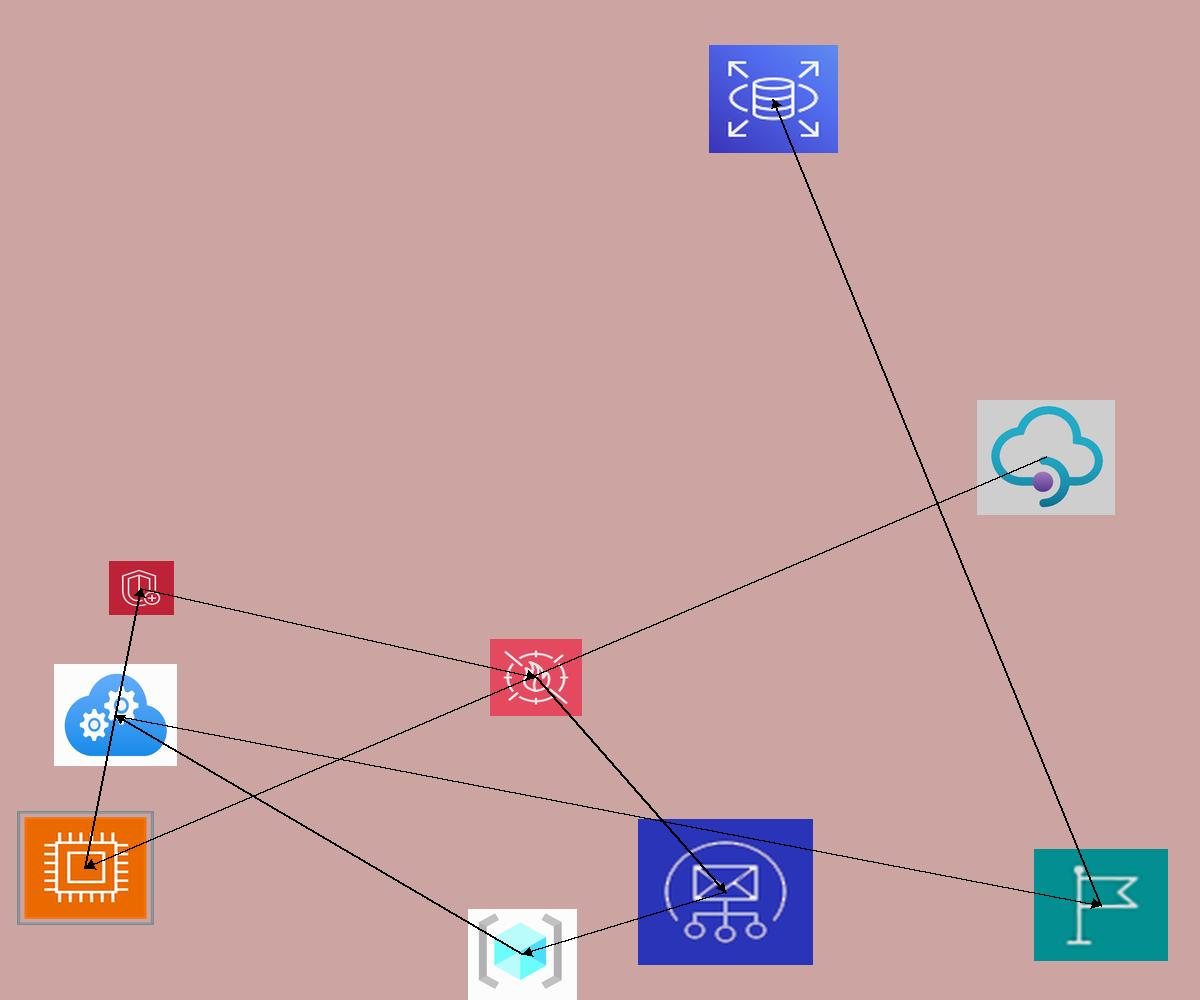AWS-Category_Compute: (17, 811, 154, 925)
AWS-RDS: (709, 45, 838, 153)
AWS-Region: (1034, 849, 1168, 961)
AWS-Shield: (109, 561, 174, 615)
AWS-Simple-Email-Service: (638, 819, 813, 965)
AWS-WAF: (490, 639, 582, 716)
Azure_api_gateway: (977, 400, 1115, 515)
Azure_cloud_services: (54, 664, 177, 766)
Azure_resource_group: (468, 909, 577, 1000)
